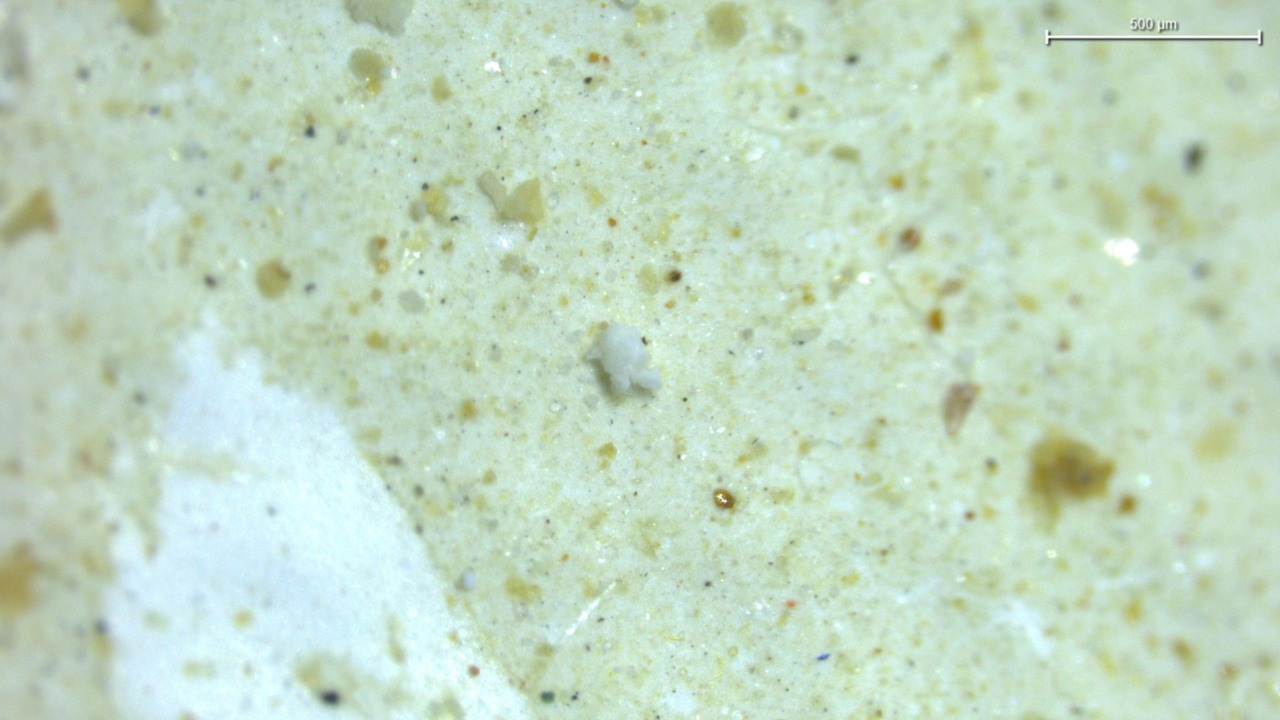microplastic_fragment: (592, 324, 660, 395)
